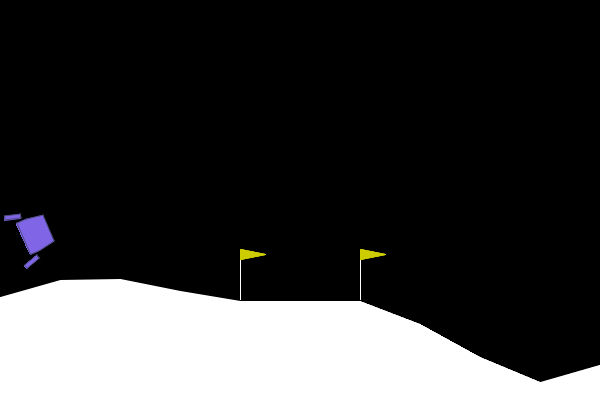lander: (1, 200, 62, 271)
